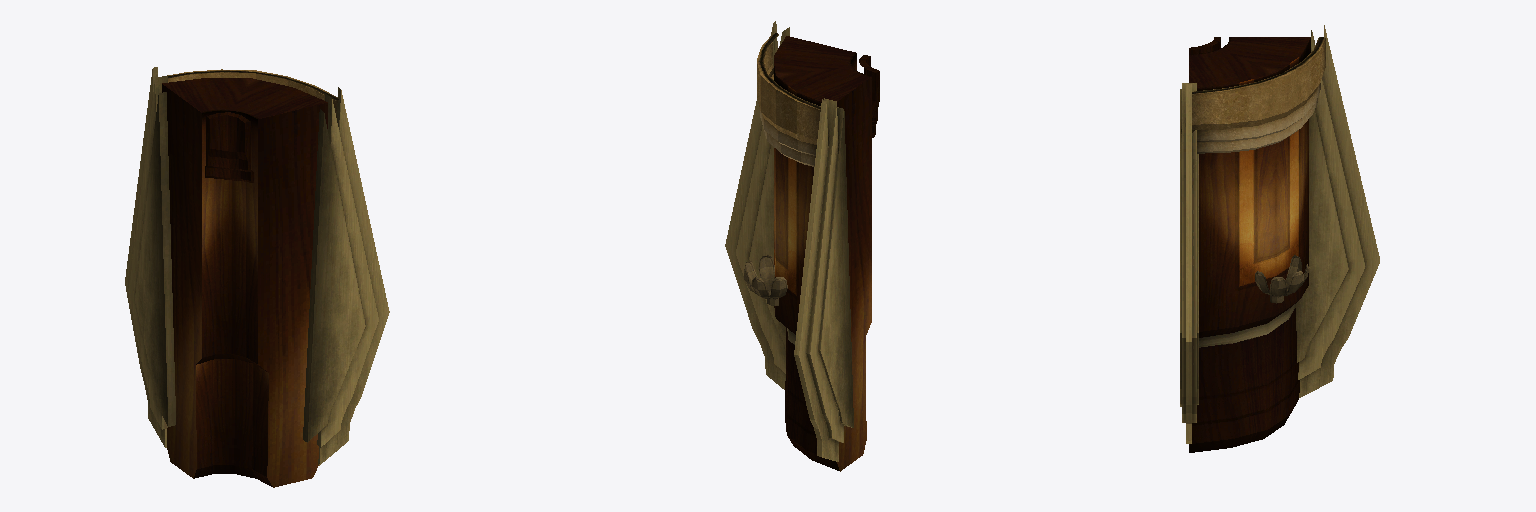
3 views of the same model, side by side, from view 1: azimuth 30°, elevation 25°; view 2: azimuth 150°, elevation 25°; view 3: azimuth 270°, elevation 25° (orthographic).
Visible parts, largest first — view 1: EDU_Restaurant_barTopCorner96; view 2: EDU_Restaurant_barTopCorner96; view 3: EDU_Restaurant_barTopCorner96.
Boxes of the visible parts, box(x1,y1,x2,y2) form: EDU_Restaurant_barTopCorner96: box(125, 67, 389, 487); EDU_Restaurant_barTopCorner96: box(725, 21, 879, 471); EDU_Restaurant_barTopCorner96: box(1180, 25, 1379, 452).
Bounding box in the file's own units: 158 × 332 × 158.
Materials: 1 (1 with a texture image).